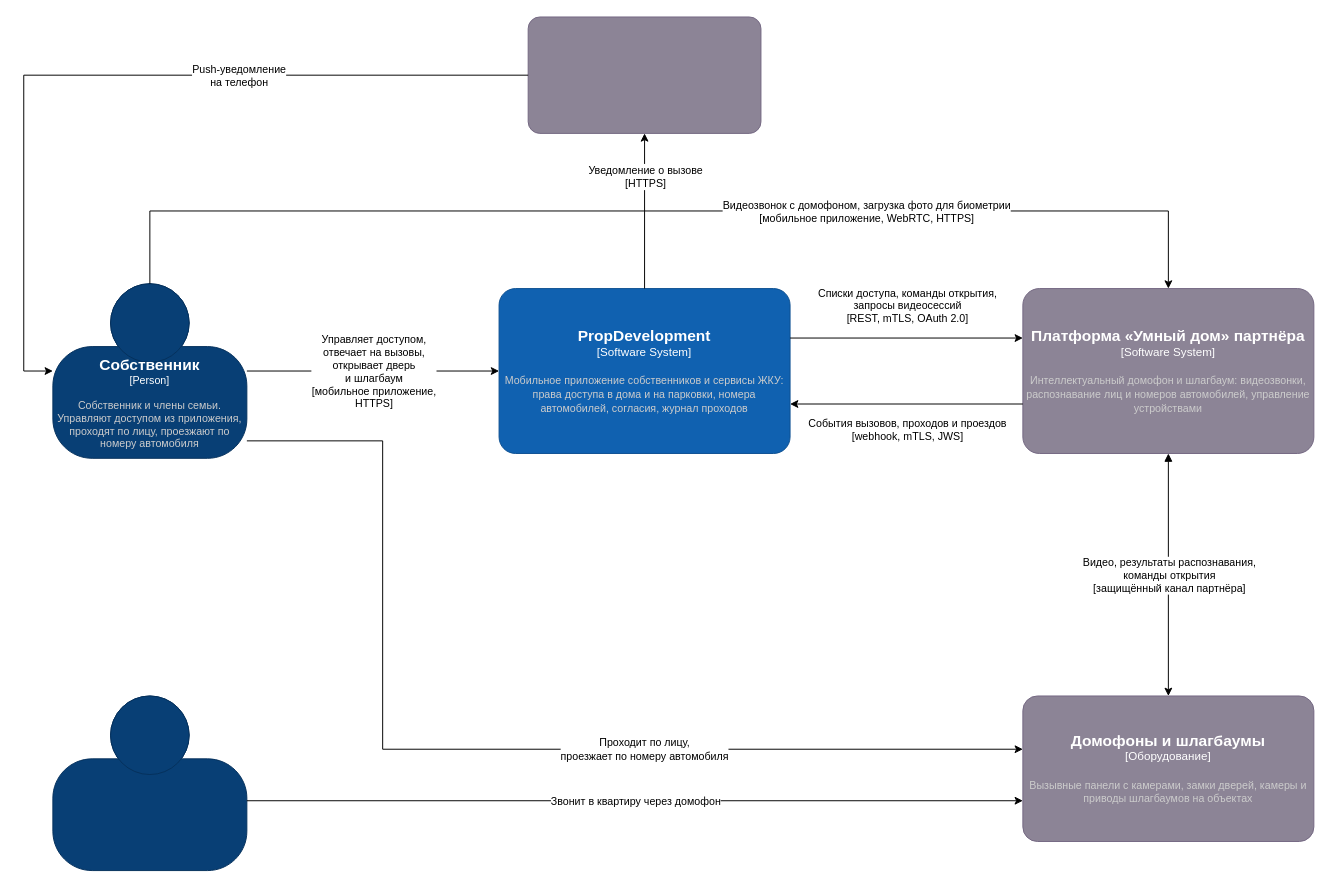
The diagram is 1331 pixels wide and 888 high, and some of its shapes have lost their labels. The box of each missing label's shape, as (x1, y1, x2, y2) in pixels:
Посетитель [Person] Гость, курьер или сотрудник службы: (52, 695, 247, 871)
Сервисы push-уведомлений [Software System] APNs, FCM: (527, 16, 761, 133)
